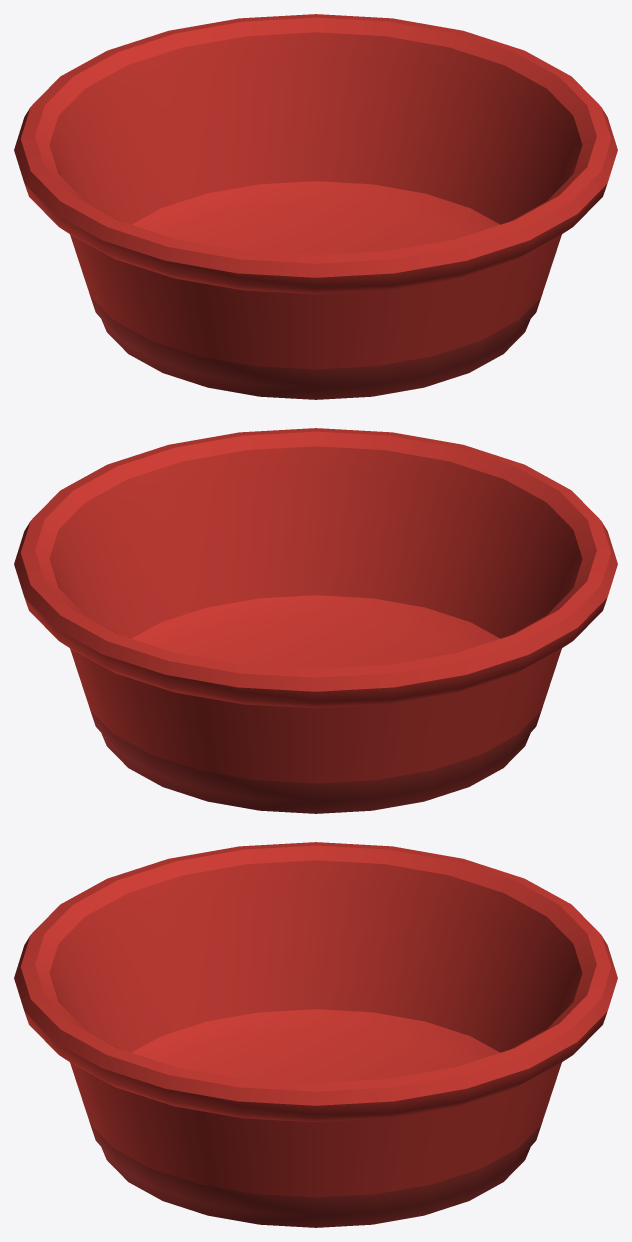
The model's file is SC_Home_RubberBasin_M.gltf.
3 renders of one model, top to bottom at view 1: azimuth 30°, elevation 25°; view 2: azimuth 150°, elevation 25°; view 3: azimuth 270°, elevation 25°, orthographic.
Parts seen in each view (by area): view 1: SC_Home_RubberBasin_M; view 2: SC_Home_RubberBasin_M; view 3: SC_Home_RubberBasin_M.
Boxes of the visible parts, x1,y1,x2,y2 form: SC_Home_RubberBasin_M: (14, 14, 617, 399); SC_Home_RubberBasin_M: (14, 428, 617, 813); SC_Home_RubberBasin_M: (14, 842, 617, 1227).
Bounding box in the file's own units: 0.63 × 0.204 × 0.63.
Materials: 1 (1 with a texture image).
